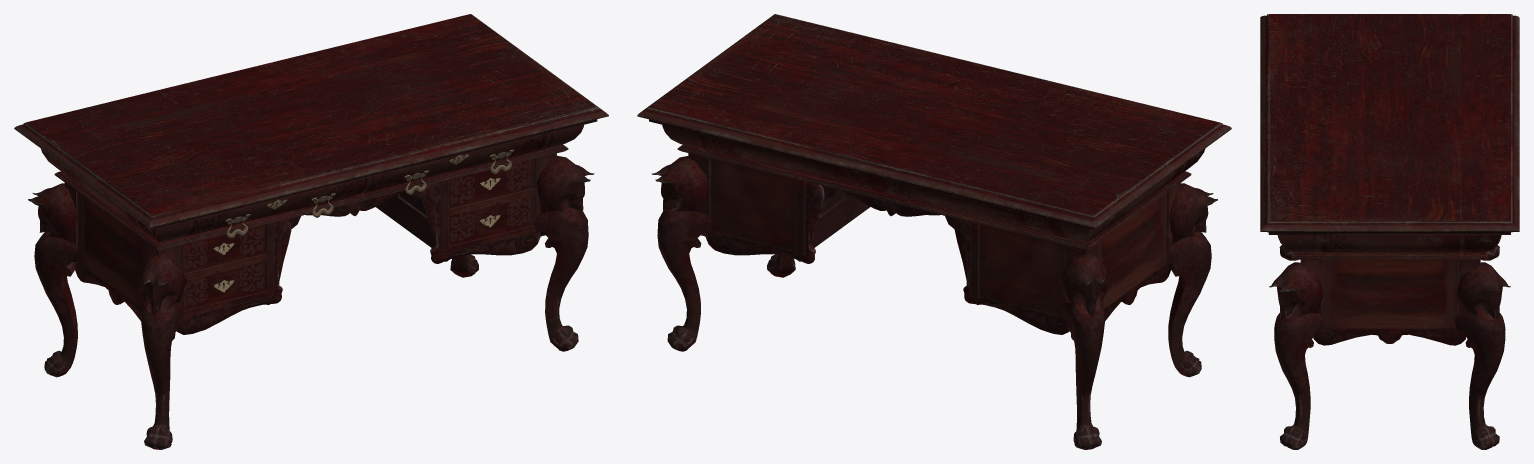
The model's file is wolf_rokoko_table.glb.
3 renders of one model, left to right at view 1: azimuth 30°, elevation 25°; view 2: azimuth 150°, elevation 25°; view 3: azimuth 270°, elevation 25°, orthographic. The views are drawn at different scales.
Parts seen in each view (by area): view 1: Table_Top_low, Boxes_low, Wolf_Leg_LP, Roundpart_low, Big_orn, Midpart_low, Handles_LP, Middle_ornament_LP, side_orn_R; view 2: Table_Top_low, Boxes_low, Wolf_Leg_LP, Roundpart_low, Big_orn, Midpart_low, Middle_ornament_LP, side_orn_R; view 3: Table_Top_low, Wolf_Leg_LP, Boxes_low, Roundpart_low, side_orn_R, Midpart_low.
Part boxes in pixels (left/top/right/bottom): Table_Top_low: left=14, top=14, right=608, bottom=229; Boxes_low: left=64, top=153, right=556, bottom=317; Wolf_Leg_LP: left=28, top=155, right=594, bottom=449; Roundpart_low: left=41, top=125, right=583, bottom=242; Big_orn: left=176, top=181, right=540, bottom=334; Midpart_low: left=54, top=144, right=568, bottom=250; Handles_LP: left=226, top=149, right=514, bottom=238; Middle_ornament_LP: left=286, top=186, right=421, bottom=228; side_orn_R: left=75, top=232, right=545, bottom=320; Table_Top_low: left=637, top=14, right=1231, bottom=229; Boxes_low: left=688, top=153, right=1180, bottom=317; Wolf_Leg_LP: left=651, top=156, right=1217, bottom=449; Roundpart_low: left=662, top=125, right=1205, bottom=242; Big_orn: left=705, top=182, right=1069, bottom=334; Midpart_low: left=677, top=145, right=1191, bottom=250; Middle_ornament_LP: left=822, top=185, right=959, bottom=228; side_orn_R: left=701, top=232, right=1171, bottom=320; Table_Top_low: left=1260, top=14, right=1519, bottom=234; Wolf_Leg_LP: left=1269, top=245, right=1510, bottom=449; Boxes_low: left=1300, top=259, right=1480, bottom=330; Roundpart_low: left=1277, top=235, right=1501, bottom=252; side_orn_R: left=1313, top=328, right=1465, bottom=345; Midpart_low: left=1292, top=251, right=1487, bottom=259.
Bounding box in the file's own units: 24.07 × 12.43 × 12.34.
2 materials, 2 textured.
